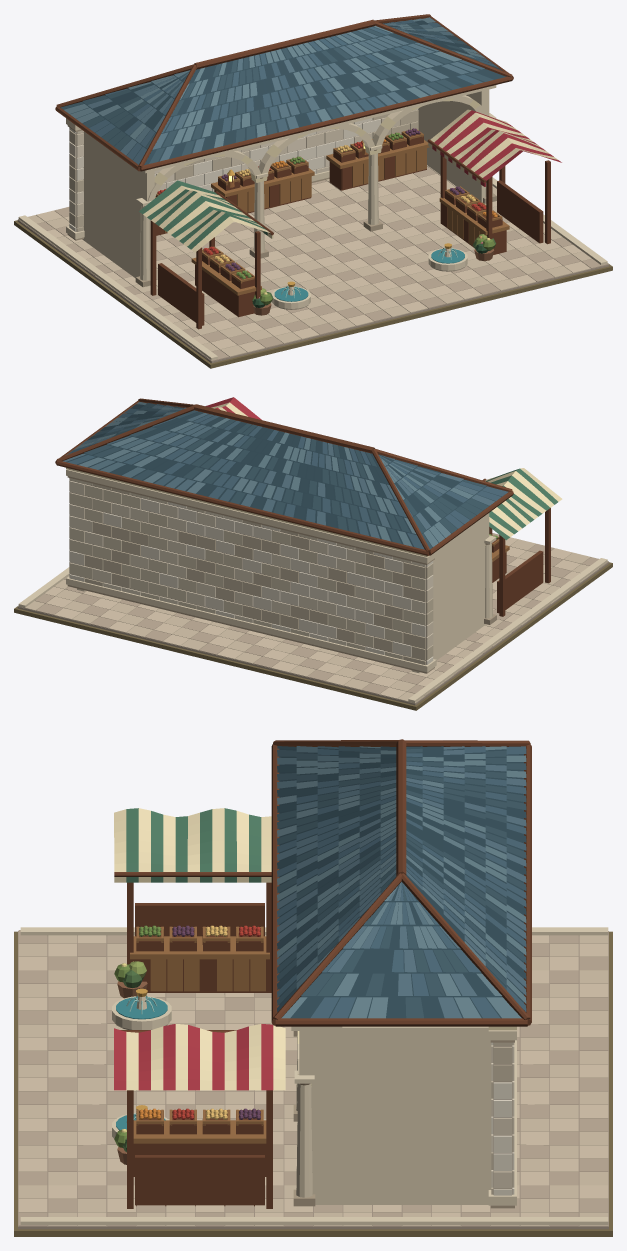
Rendered from market-nivel-5.glb.
3 views of the same model, one above another, from view 1: azimuth 30°, elevation 25°; view 2: azimuth 150°, elevation 25°; view 3: azimuth 270°, elevation 25° (orthographic). The views are drawn at different scales.
Parts seen in each view (by area): view 1: Mercado 05 #70432c, Mercado 05 #e6d7ba, Mercado 05 #d3c3a9, Mercado 05 #dac9af, Mercado 05 #c1af99, Mercado 05 #344d58, Mercado 05 #9f7145, Mercado 05 #55717e, Mercado 05 #3f5a65, Mercado 05 #eadbb2, Mercado 05 #637f89, Mercado 05 #486574 (+10 smaller); view 2: Mercado 05 #e6d7ba, Mercado 05 #344d58, Mercado 05 #ded1b9, Mercado 05 #cec1a8, Mercado 05 #eae1ce, Mercado 05 #70432c, Mercado 05 #e8dcc5, Mercado 05 #3f5a65, Mercado 05 #dac9af, Mercado 05 #c1af99, Mercado 05 #d3c3a9, Mercado 05 #637f89 (+8 smaller); view 3: Mercado 05 #e6d7ba, Mercado 05 #70432c, Mercado 05 #344d58, Mercado 05 #d3c3a9, Mercado 05 #c1af99, Mercado 05 #dac9af, Mercado 05 #3f5a65, Mercado 05 #637f89, Mercado 05 #55717e, Mercado 05 #eadbb2, Mercado 05 #486574, Mercado 05 #9f7145 (+8 smaller).
Boxes of the visible parts, x1,y1,x2,y2 form: Mercado 05 #70432c: [55, 14, 550, 329]; Mercado 05 #e6d7ba: [18, 85, 607, 360]; Mercado 05 #d3c3a9: [18, 166, 591, 356]; Mercado 05 #dac9af: [36, 165, 590, 352]; Mercado 05 #c1af99: [27, 166, 608, 361]; Mercado 05 #344d58: [63, 20, 506, 165]; Mercado 05 #9f7145: [155, 128, 509, 295]; Mercado 05 #55717e: [88, 21, 478, 161]; Mercado 05 #3f5a65: [60, 23, 493, 163]; Mercado 05 #eadbb2: [143, 98, 557, 252]; Mercado 05 #637f89: [64, 17, 485, 147]; Mercado 05 #486574: [89, 19, 498, 164]; Mercado 05 #e6d7ba: [18, 469, 607, 703]; Mercado 05 #344d58: [66, 404, 501, 547]; Mercado 05 #ded1b9: [69, 478, 433, 659]; Mercado 05 #cec1a8: [69, 478, 433, 665]; Mercado 05 #eae1ce: [69, 498, 433, 664]; Mercado 05 #70432c: [55, 398, 550, 616]; Mercado 05 #e8dcc5: [69, 481, 433, 645]; Mercado 05 #3f5a65: [84, 403, 488, 549]; Mercado 05 #dac9af: [44, 536, 589, 698]; Mercado 05 #c1af99: [35, 533, 608, 696]; Mercado 05 #d3c3a9: [18, 539, 599, 703]; Mercado 05 #637f89: [66, 402, 473, 546]; Mercado 05 #e6d7ba: [20, 927, 608, 1225]; Mercado 05 #70432c: [114, 739, 531, 1208]; Mercado 05 #344d58: [277, 746, 526, 1018]; Mercado 05 #d3c3a9: [18, 935, 608, 1226]; Mercado 05 #c1af99: [18, 930, 608, 1226]; Mercado 05 #dac9af: [18, 935, 608, 1226]; Mercado 05 #3f5a65: [277, 746, 526, 1018]; Mercado 05 #637f89: [277, 746, 526, 1018]; Mercado 05 #55717e: [277, 746, 526, 1018]; Mercado 05 #eadbb2: [114, 808, 516, 1090]; Mercado 05 #486574: [277, 746, 526, 1018]; Mercado 05 #9f7145: [130, 926, 269, 1143].
Size of the model in its own units: 12.79 by 5.62 by 10.82.
